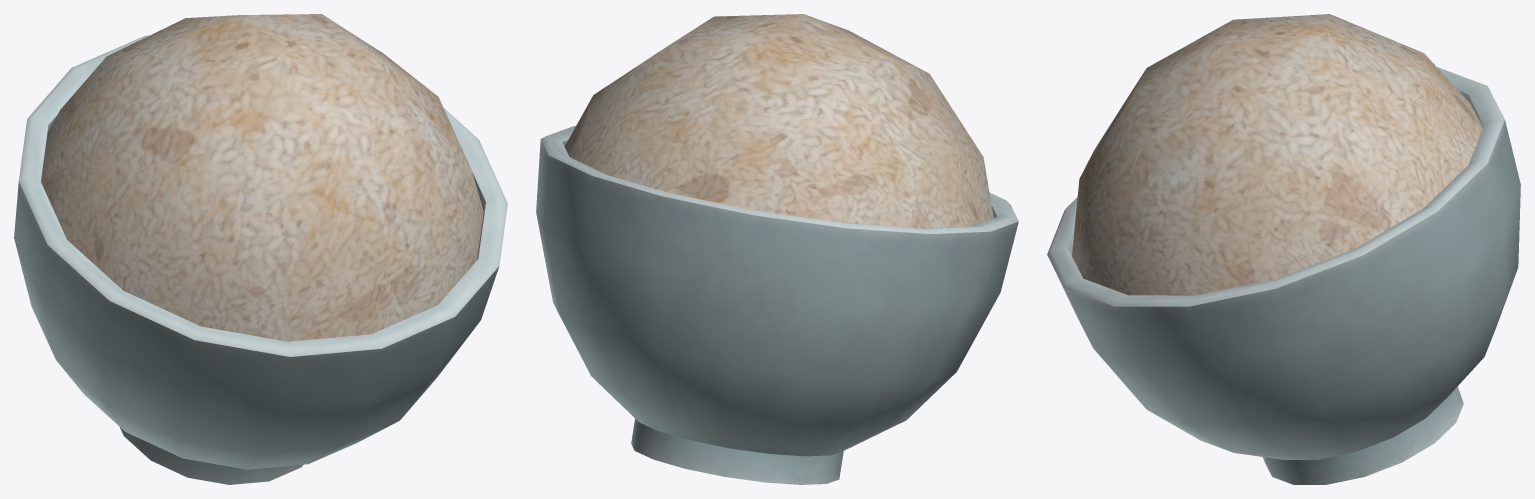
The model's file is nasi.glb.
The picture shows the model from 3 angles, left to right: view 1: azimuth 30°, elevation 25°; view 2: azimuth 150°, elevation 25°; view 3: azimuth 270°, elevation 25°; orthographic projection. The views are drawn at different scales.
Parts seen in each view (by area): view 1: SM_Rice, SM_Cooked_Rice_Bowl; view 2: SM_Cooked_Rice_Bowl, SM_Rice; view 3: SM_Cooked_Rice_Bowl, SM_Rice.
Boxes of the visible parts, x1,y1,x2,y2 form: SM_Rice: [41, 14, 483, 341]; SM_Cooked_Rice_Bowl: [14, 35, 507, 484]; SM_Cooked_Rice_Bowl: [536, 126, 1018, 484]; SM_Rice: [564, 14, 993, 228]; SM_Cooked_Rice_Bowl: [1047, 67, 1520, 484]; SM_Rice: [1072, 14, 1482, 295].
Bounding box in the file's own units: 0.1483 × 0.1453 × 0.1459.
2 materials, 2 textured.
